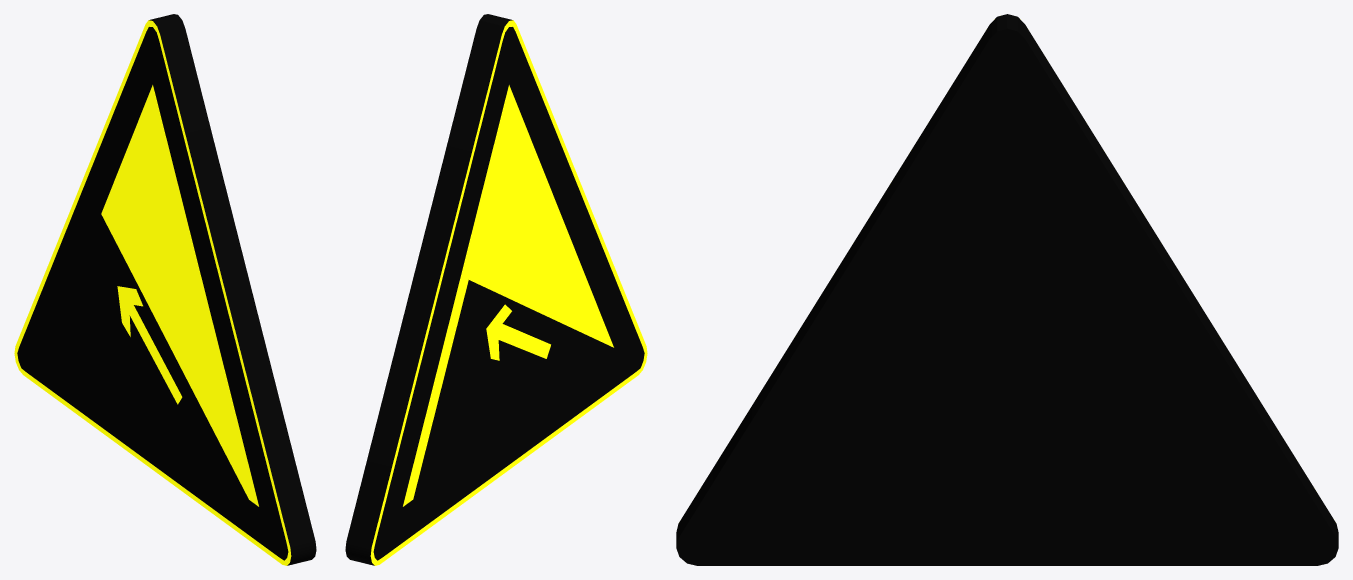
The model's file is Up_Steep_Slope.glb.
3 views of the same model, side by side, from view 1: azimuth 30°, elevation 25°; view 2: azimuth 150°, elevation 25°; view 3: azimuth 270°, elevation 25° (orthographic). The views are drawn at different scales.
Visible parts, largest first — view 1: Up_Steep_Slope; view 2: Up_Steep_Slope; view 3: Up_Steep_Slope.
Boxes of the visible parts, x1=… form: Up_Steep_Slope: x1=14, y1=14, x2=316, y2=565; Up_Steep_Slope: x1=345, y1=14, x2=647, y2=565; Up_Steep_Slope: x1=676, y1=14, x2=1338, y2=565.
Size of the model in its own units: 0.075 by 1.02 by 1.14.
